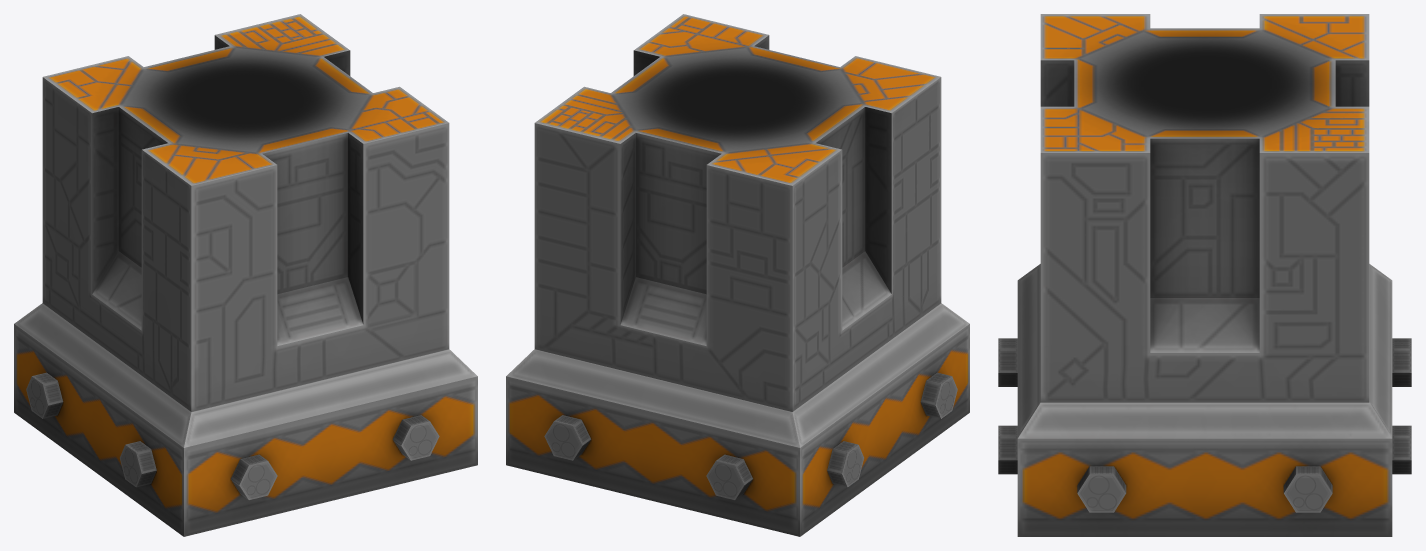
File: Turret.dae
3 renders of one model, left to right at view 1: azimuth 30°, elevation 25°; view 2: azimuth 150°, elevation 25°; view 3: azimuth 270°, elevation 25°, orthographic. The views are drawn at different scales.
Parts seen in each view (by area): view 1: Turret; view 2: Turret; view 3: Turret.
Boxes of the visible parts, x1=… form: Turret: x1=14, y1=14, x2=477, y2=536; Turret: x1=506, y1=14, x2=969, y2=536; Turret: x1=998, y1=14, x2=1411, y2=536.
Size of the model in its own units: 2 by 2 by 2.
